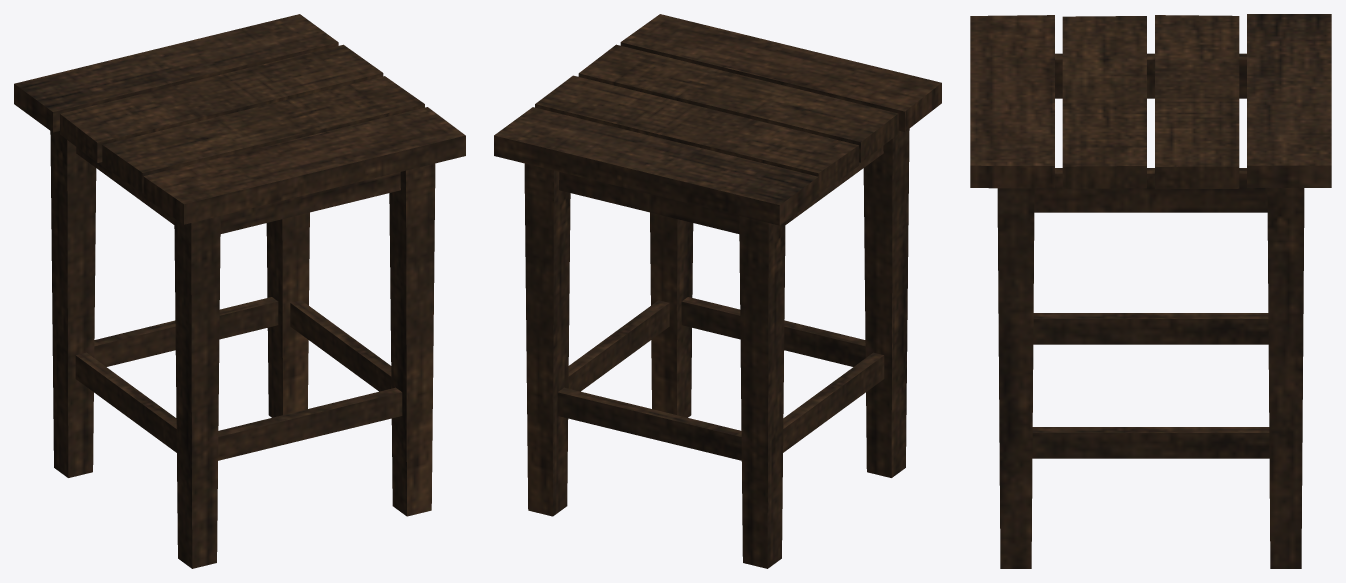
The model's file is chair_mp_1_1.obj.
3 views of the same model, side by side, from view 1: azimuth 30°, elevation 25°; view 2: azimuth 150°, elevation 25°; view 3: azimuth 270°, elevation 25° (orthographic). The views are drawn at different scales.
Visible parts, largest first — view 1: chair_mp_1_1; view 2: chair_mp_1_1; view 3: chair_mp_1_1.
Boxes of the visible parts, x1,y1,x2,y2 form: chair_mp_1_1: (14,14,465,568); chair_mp_1_1: (494,14,941,568); chair_mp_1_1: (970,14,1331,568).
Bounding box in the file's own units: 0.4707 × 0.594 × 0.47.
